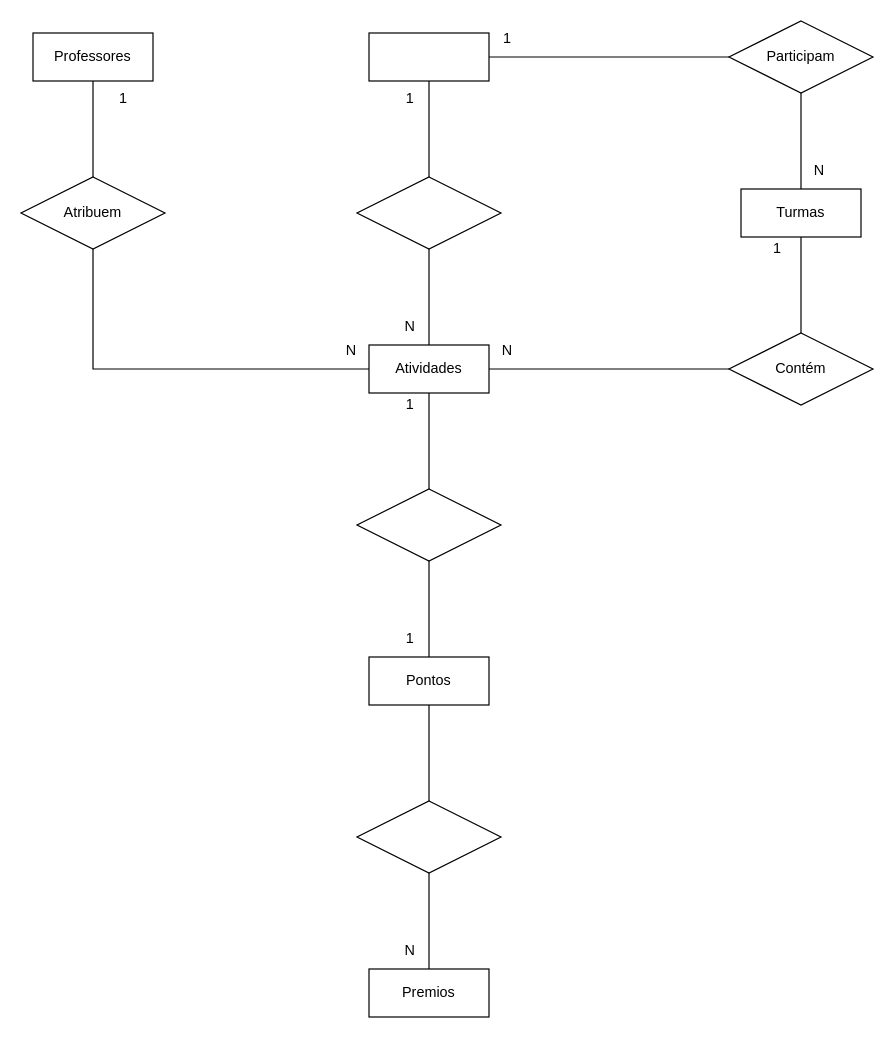
Some shapes in this 894 by 1038 pixel diagram are drawn without their labels. The shapes that lost their labels are listed below. From the top down, each one's box as (x1, y1, x2, y2) in pixels, then its label:
(368, 32, 489, 81): Alunos
(356, 176, 501, 249): Realizam
(356, 488, 501, 561): Geram
(356, 800, 501, 873): Resgatam
